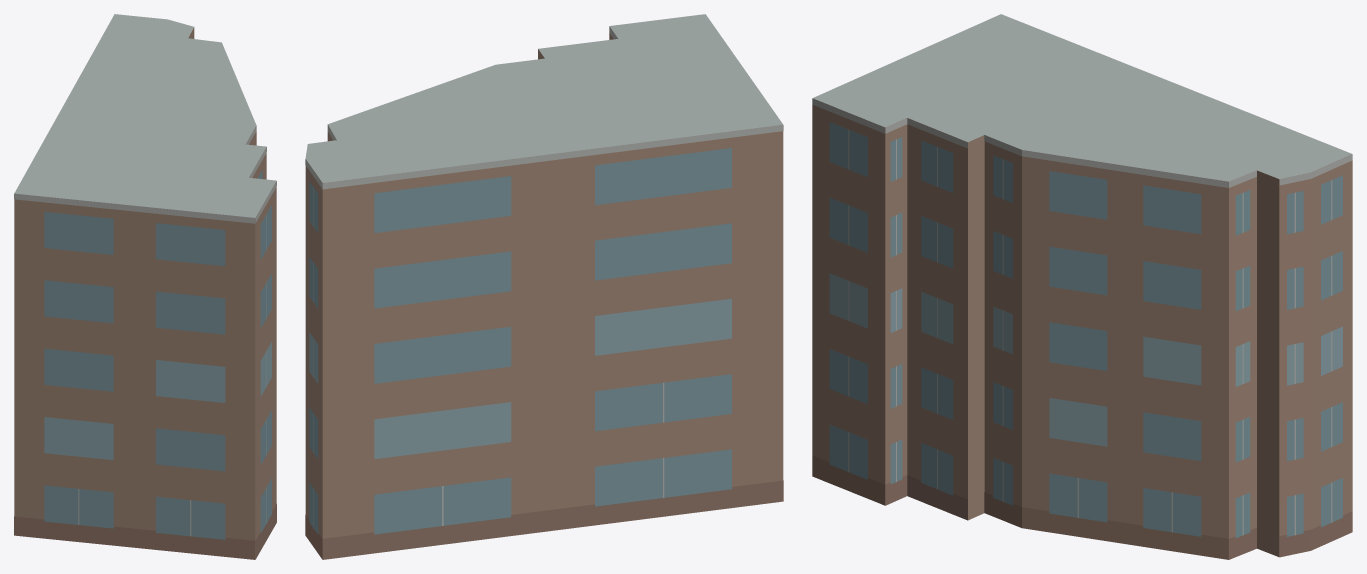
The model's file is survey-upis-32893437.glb.
3 views of the same model, side by side, from view 1: azimuth 30°, elevation 25°; view 2: azimuth 150°, elevation 25°; view 3: azimuth 270°, elevation 25° (orthographic). The views are drawn at different scales.
Visible parts, largest first — view 1: survey-upis-32893437.tmp; view 2: survey-upis-32893437.tmp; view 3: survey-upis-32893437.tmp.
Part boxes in pixels (x1=…): survey-upis-32893437.tmp: x1=14, y1=14, x2=276, y2=559; survey-upis-32893437.tmp: x1=305, y1=14, x2=783, y2=559; survey-upis-32893437.tmp: x1=812, y1=14, x2=1352, y2=559.
Bounding box in the file's own units: 13.79 × 14.49 × 18.76.
